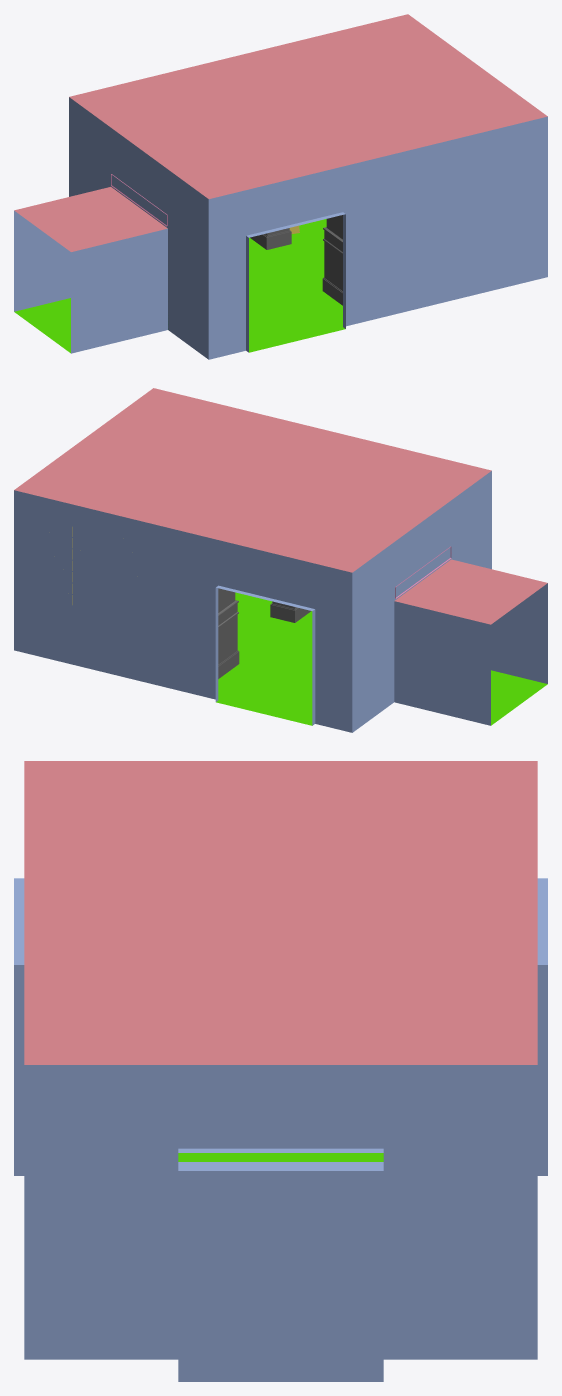
The model's file is RoomS4.fbx.
3 renders of one model, top to bottom at view 1: azimuth 30°, elevation 25°; view 2: azimuth 150°, elevation 25°; view 3: azimuth 270°, elevation 25°, orthographic. The views are drawn at different scales.
Visible parts, largest first — view 1: Plane.015, Plane.016, Plane.007, Cube.035; view 2: Plane.015, Plane.016, Plane.007, Cube.035; view 3: Plane.016, Plane.015, Cube.041, Plane.007.
Boxes of the visible parts, <box> form: Plane.015: <box>14,97,547,359</box>; Plane.016: <box>14,14,547,251</box>; Plane.007: <box>14,219,345,353</box>; Cube.035: <box>250,215,342,305</box>; Plane.015: <box>14,471,547,732</box>; Plane.016: <box>14,388,547,624</box>; Plane.007: <box>216,592,547,725</box>; Cube.035: <box>218,588,310,678</box>; Plane.016: <box>24,761,537,1064</box>; Plane.015: <box>14,878,547,1359</box>; Cube.041: <box>178,1162,383,1381</box>; Plane.007: <box>178,1153,383,1161</box>.
Bounding box in the file's own units: 951 × 317 × 520.
